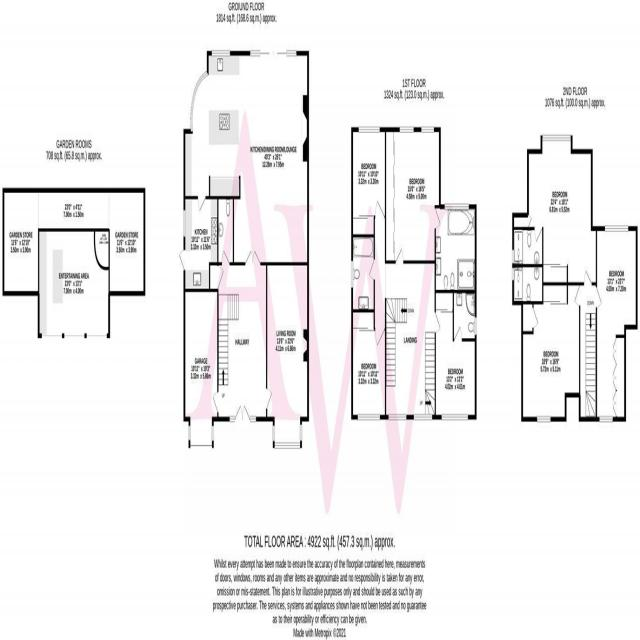DOOR: (375, 327, 385, 347), (375, 199, 385, 219), (178, 248, 185, 272), (534, 226, 543, 244), (574, 284, 581, 307), (434, 311, 441, 334), (368, 258, 375, 281), (434, 207, 441, 230), (266, 387, 273, 410), (453, 325, 462, 342), (395, 247, 404, 264), (221, 249, 230, 266), (596, 286, 602, 309), (584, 269, 592, 286), (198, 196, 206, 213)
ROOM: (183, 50, 309, 266), (512, 134, 597, 286), (521, 282, 581, 423), (596, 225, 638, 422), (266, 262, 309, 449), (385, 127, 441, 264), (434, 290, 477, 421), (351, 309, 386, 420), (351, 127, 386, 237)
WINDOW: (190, 70, 208, 133), (542, 134, 571, 142), (444, 203, 469, 212), (441, 413, 468, 421), (357, 413, 380, 421), (274, 442, 300, 449), (605, 225, 629, 232), (413, 413, 433, 421), (358, 126, 380, 133), (388, 413, 407, 421), (211, 50, 231, 57), (399, 126, 414, 134), (599, 415, 613, 423), (537, 415, 551, 423), (421, 126, 434, 134), (351, 260, 354, 289), (183, 209, 186, 237), (299, 424, 303, 441), (474, 317, 477, 336), (272, 425, 275, 442), (211, 425, 214, 442), (512, 249, 515, 265), (188, 425, 191, 441), (512, 267, 515, 282)
